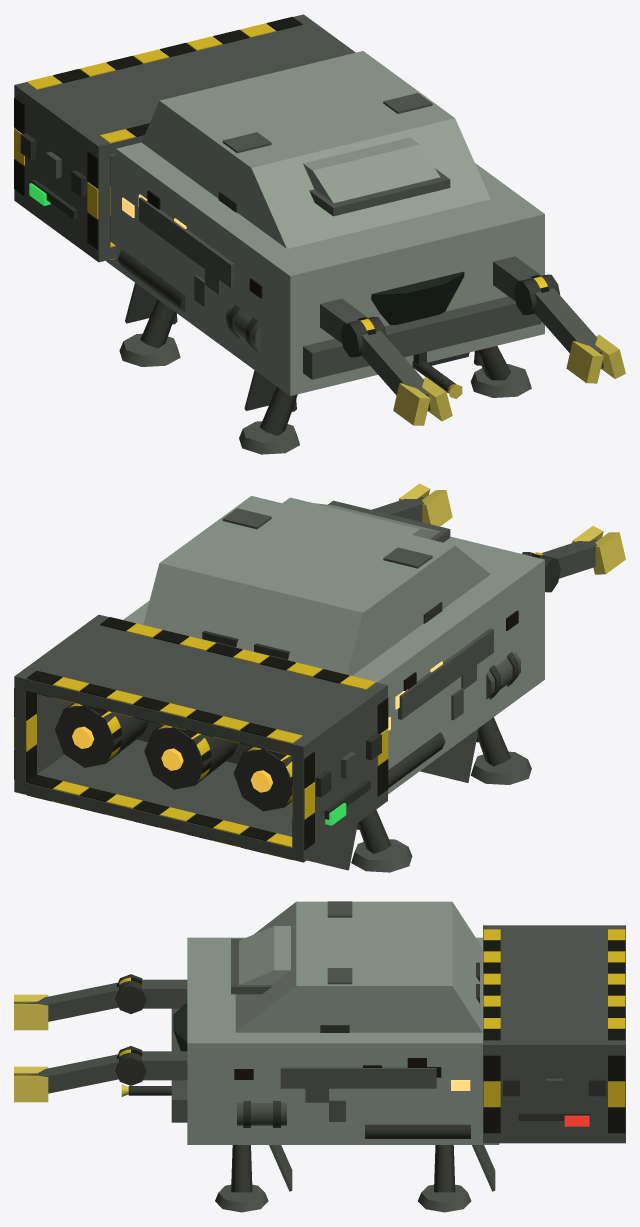
Rendered from tug-s(3).glb.
3 renders of one model, top to bottom at view 1: azimuth 30°, elevation 25°; view 2: azimuth 150°, elevation 25°; view 3: azimuth 270°, elevation 25°, orthographic. The views are drawn at different scales.
Parts seen in each view (by area): view 1: hullMain, hullUpper, shroudPlateTop, accentStripe, shroudPlateLeft, canopyFairing, armFore (×2), gearFoot (×3), cockpitGlass, gearStrut (×3), hazardFlankL, armUpper (×2) (+10 smaller); view 2: hullUpper, shroudPlateTop, hullMain, shroudPlateBottom, engineHousing (×3), shroudPlateLeft, shroudPlateRight, gearFoot (×2), hazardFlankL, gearBayDoor (×2), armFore (×2), gearStrut (×2) (+8 smaller); view 3: hullMain, hullUpper, shroudPlateTop, shroudPlateRight, armFore (×2), hazardFlankR, canopyFairing, armUpper (×2), gearFoot (×2), gearStrut (×2), armJawB (×2), armKnuckle (×2) (+17 smaller).
Part boxes in pixels (left/top/right/bottom): hullMain: left=106, top=142, right=544, bottom=395; hullUpper: left=141, top=51, right=490, bottom=248; shroudPlateTop: left=14, top=14, right=355, bottom=158; accentStripe: left=303, top=296, right=541, bottom=379; shroudPlateLeft: left=14, top=97, right=109, bottom=250; canopyFairing: left=303, top=137, right=440, bottom=203; armFore (×2): left=361, top=288, right=603, bottom=410; gearFoot (×3): left=119, top=333, right=531, bottom=454; cockpitGlass: left=371, top=271, right=464, bottom=325; gearStrut (×3): left=140, top=299, right=510, bottom=435; hazardFlankL: left=139, top=197, right=234, bottom=288; armUpper (×2): left=320, top=256, right=541, bottom=343; hullUpper: left=143, top=496, right=490, bottom=675; shroudPlateTop: left=14, top=614, right=387, bottom=758; hullMain: left=123, top=497, right=544, bottom=794; shroudPlateBottom: left=14, top=739, right=387, bottom=862; engineHousing (×3): left=55, top=703, right=292, bottom=811; shroudPlateLeft: left=292, top=697, right=387, bottom=850; shroudPlateRight: left=14, top=688, right=72, bottom=782; gearFoot (×2): left=351, top=751, right=531, bottom=872; hazardFlankL: left=398, top=628, right=493, bottom=719; gearBayDoor (×2): left=307, top=728, right=478, bottom=870; armFore (×2): left=371, top=497, right=597, bottom=578; gearStrut (×2): left=357, top=717, right=510, bottom=853; hullMain: left=187, top=937, right=499, bottom=1144; hullUpper: left=235, top=901, right=482, bottom=1032; shroudPlateTop: left=483, top=925, right=625, bottom=1054; shroudPlateRight: left=483, top=1055, right=625, bottom=1133; armFore (×2): left=27, top=982, right=118, bottom=1093; hazardFlankR: left=280, top=1067, right=436, bottom=1088; canopyFairing: left=239, top=926, right=290, bottom=984; armUpper (×2): left=142, top=979, right=187, bottom=1080; gearFoot (×2): left=215, top=1184, right=471, bottom=1212; gearStrut (×2): left=231, top=1145, right=455, bottom=1192; armJawB (×2): left=14, top=1004, right=48, bottom=1102; armKnuckle (×2): left=115, top=974, right=146, bottom=1085.
Size of the model in its own units: 1.9 by 1.49 by 3.92.
